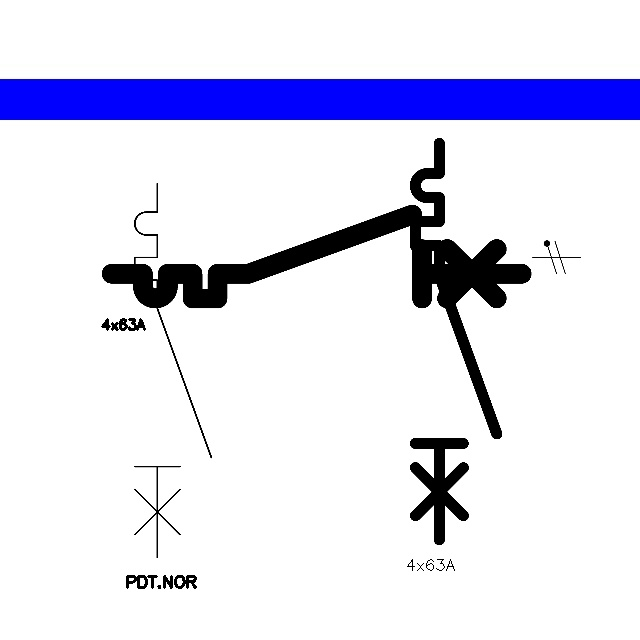interruptor_termomagnetico: (101, 204, 532, 309), (405, 133, 507, 550), (125, 174, 221, 567)
